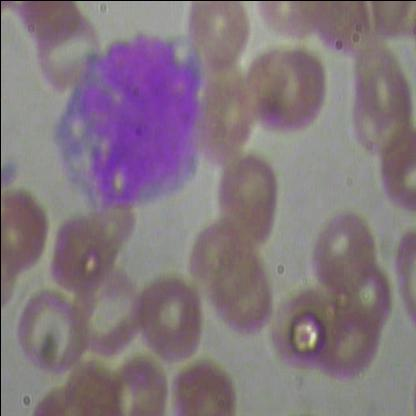RBC: (132, 272, 208, 368), (12, 287, 87, 383), (308, 205, 382, 301), (256, 46, 330, 142), (210, 157, 284, 253), (190, 213, 264, 309), (266, 284, 332, 378), (1, 182, 60, 278), (47, 212, 115, 294), (184, 0, 252, 80)
WBC: (48, 31, 209, 223)
